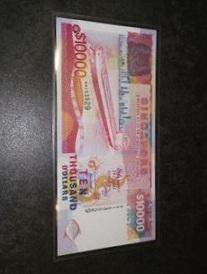10000SingaporeDollar: (57, 30, 155, 240)
